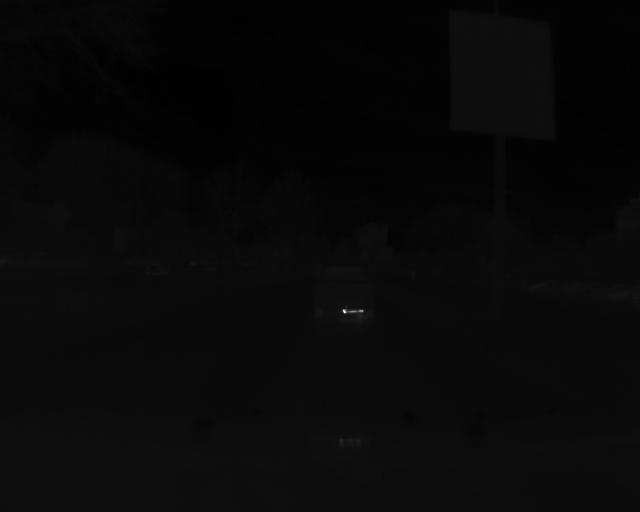car: (310, 261, 377, 322)
